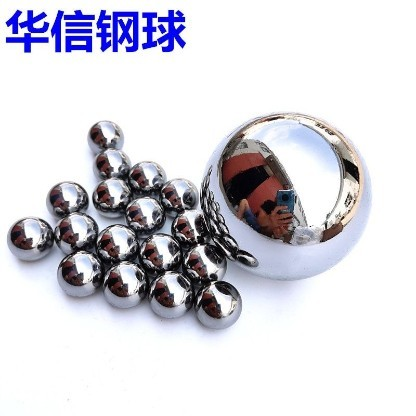ironball: (199, 110, 372, 280), (193, 279, 242, 329), (147, 269, 194, 318), (56, 249, 104, 296), (101, 260, 148, 308), (6, 215, 54, 261), (181, 242, 226, 286), (138, 232, 182, 276), (53, 211, 98, 254), (95, 223, 139, 265), (124, 195, 165, 237), (91, 176, 132, 217), (170, 208, 210, 249), (45, 180, 88, 218), (159, 177, 198, 216), (127, 160, 166, 196), (92, 147, 131, 180), (86, 119, 123, 153)
